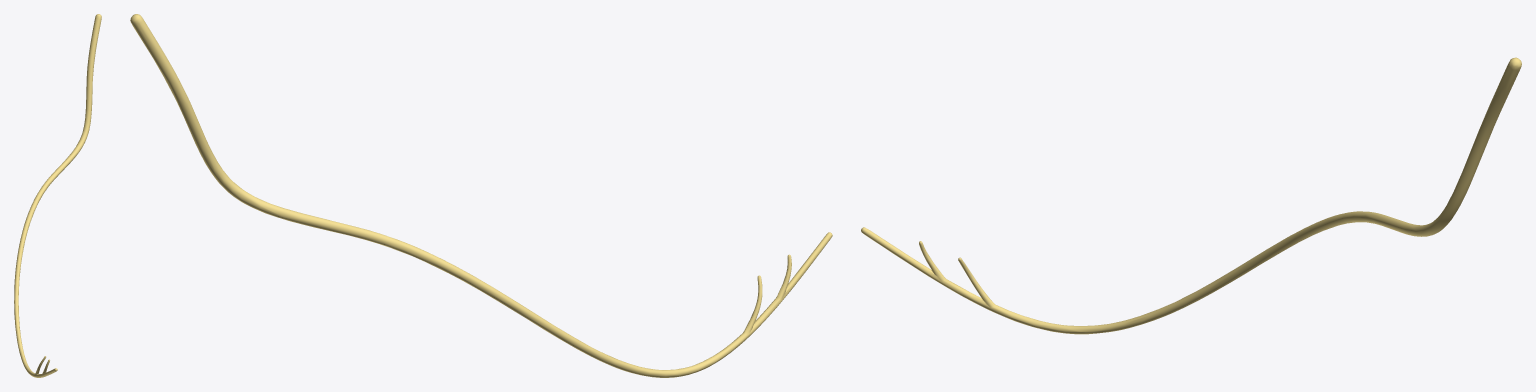
File: fma80512_fj3949.glb
The picture shows the model from 3 angles, left to right: view 1: azimuth 30°, elevation 25°; view 2: azimuth 150°, elevation 25°; view 3: azimuth 270°, elevation 25°; orthographic projection. The views are drawn at different scales.
Parts seen in each view (by area): view 1: FMA80512_FJ3949; view 2: FMA80512_FJ3949; view 3: FMA80512_FJ3949.
Part boxes in pixels (x1=…): FMA80512_FJ3949: x1=14, y1=14, x2=101, y2=377; FMA80512_FJ3949: x1=130, y1=14, x2=832, y2=377; FMA80512_FJ3949: x1=861, y1=57, x2=1521, y2=334.
Bounding box in the file's own units: 0.0356 × 0.0369 × 0.0486.
